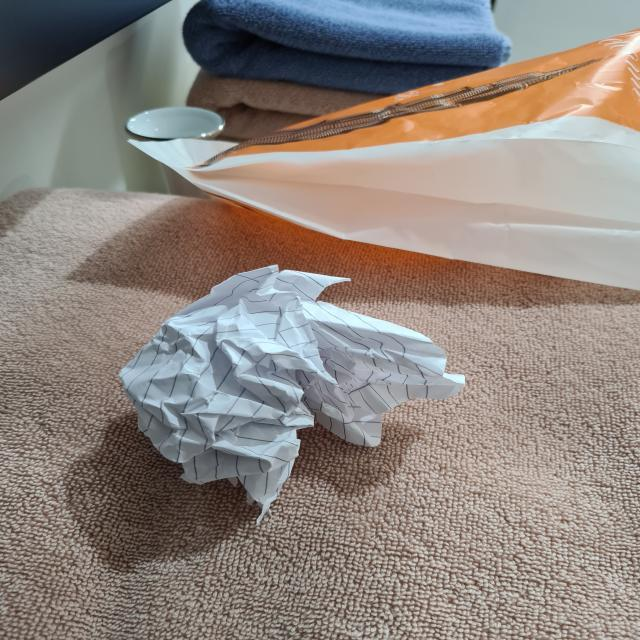Paper: (120, 259, 468, 526)
